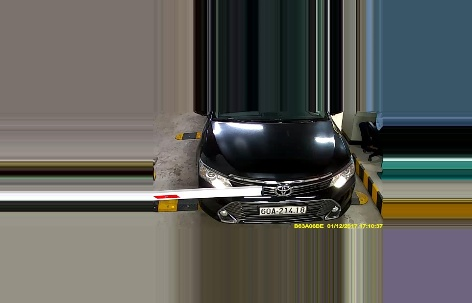plate: (258, 203, 306, 215)
